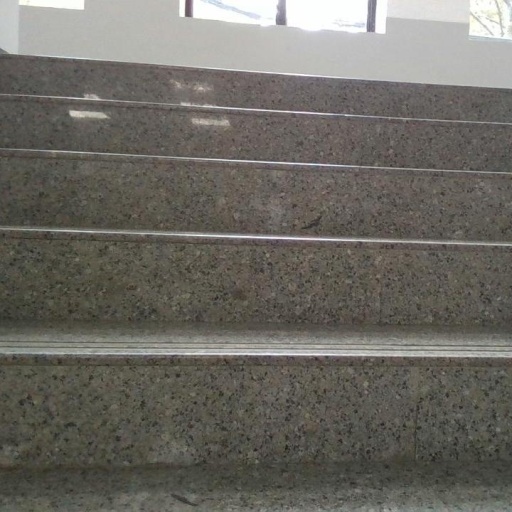Stairs: (0, 55, 512, 512)
